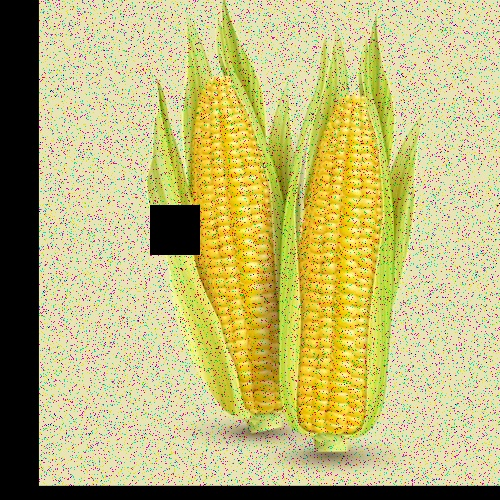corn: (177, 36, 297, 437), (282, 60, 397, 449)
